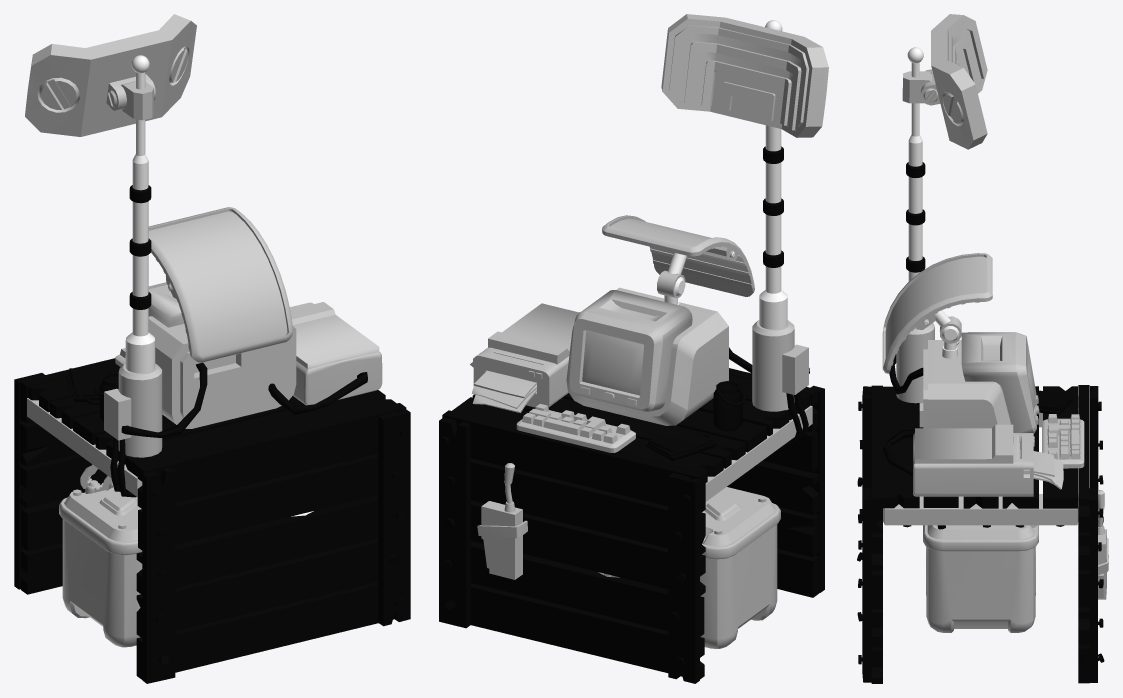
File: antenna.fbx
The picture shows the model from 3 angles, left to right: view 1: azimuth 30°, elevation 25°; view 2: azimuth 150°, elevation 25°; view 3: azimuth 270°, elevation 25°; orthographic projection. The views are drawn at different scales.
Parts seen in each view (by area): view 1: workbench; view 2: workbench; view 3: workbench.
Boxes of the visible parts, left/top/right/bottom form: workbench: left=14, top=14, right=410, bottom=683; workbench: left=439, top=14, right=828, bottom=683; workbench: left=857, top=14, right=1108, bottom=683.
Size of the model in its own units: 4.95 by 8.7 by 3.69.
